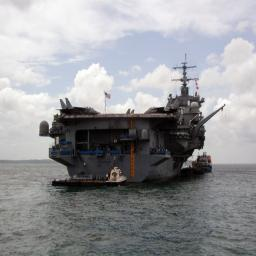Portanaves: (37, 50, 228, 196)
